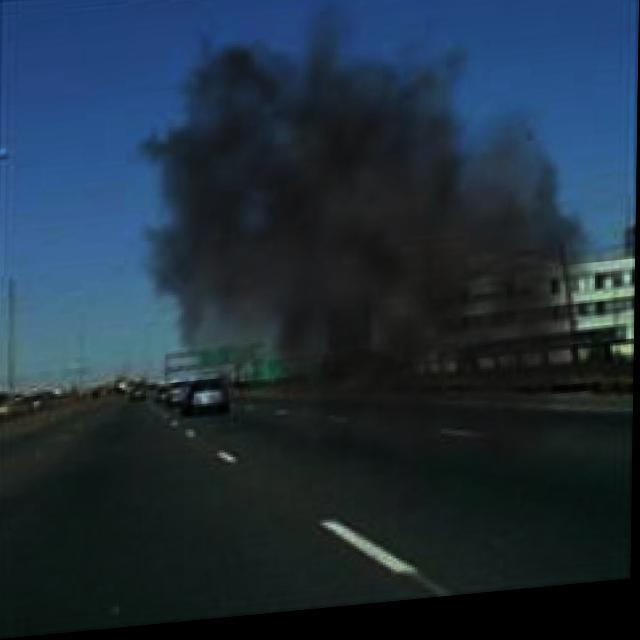Smoke: (132, 0, 612, 595)
